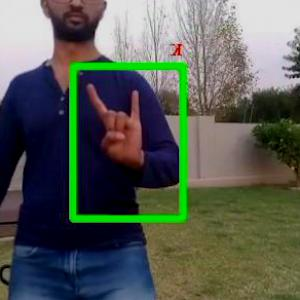takeoff-hand: (79, 62, 155, 174)
